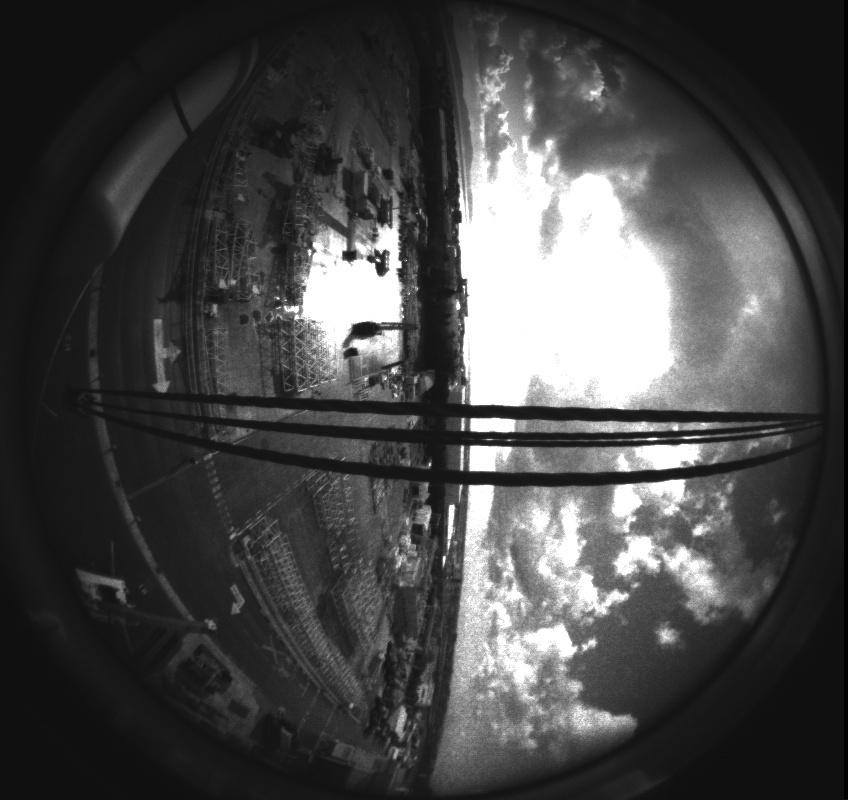rope: (1, 367, 838, 492)
